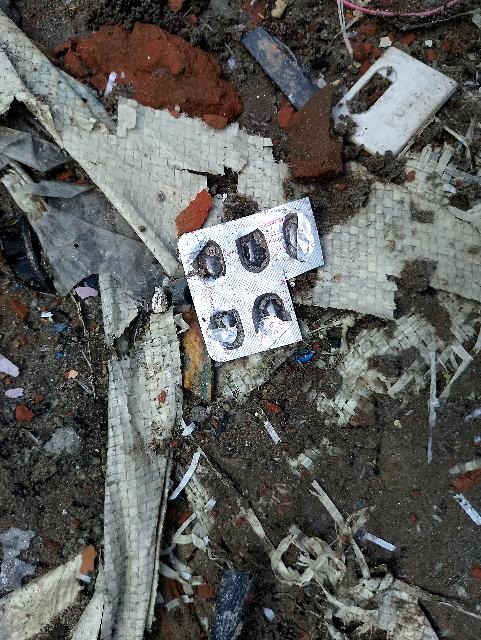medicine: (161, 192, 339, 366)
